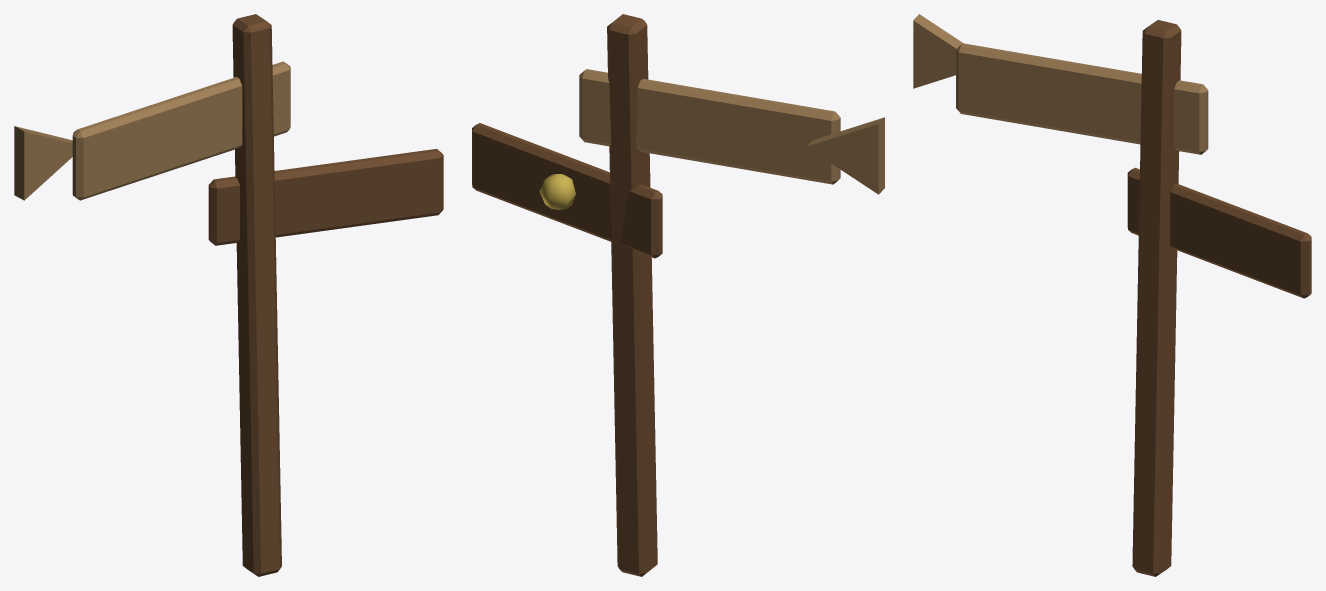
Rendered from signpost.fbx.
3 views of the same model, side by side, from view 1: azimuth 30°, elevation 25°; view 2: azimuth 150°, elevation 25°; view 3: azimuth 330°, elevation 25° (orthographic). The views are drawn at different scales.
Visible parts, largest first — view 1: Prop; view 2: Prop; view 3: Prop.
Boxes of the visible parts, <box> form: Prop: <box>14,14,443,576</box>; Prop: <box>472,14,884,576</box>; Prop: <box>913,14,1311,576</box>.
Bounding box in the file's own units: 0.8725 × 0.1244 × 1.1.
